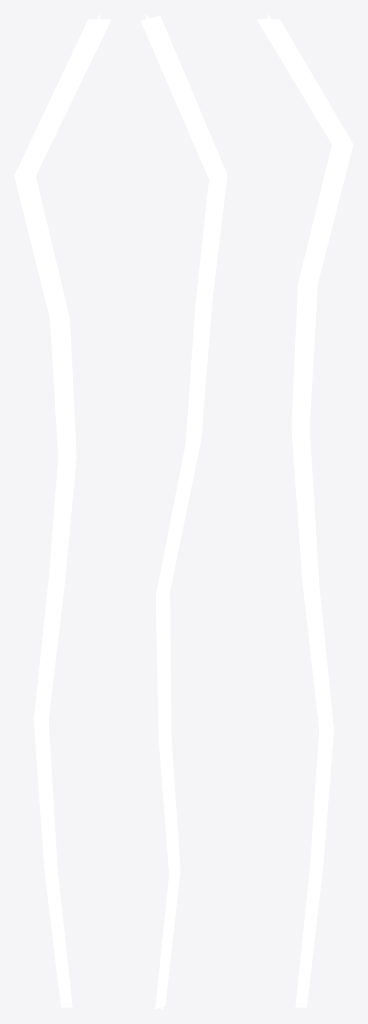
File: stormbolt.glb
The picture shows the model from 3 angles, left to right: view 1: azimuth 90°, elevation 25°; view 2: azimuth 210°, elevation 25°; view 3: azimuth 270°, elevation 25°; orthographic projection.
Visible parts, largest first — view 1: stormbolt; view 2: stormbolt; view 3: stormbolt.
Part boxes in pixels (x1,y1,x2,y2): stormbolt: (14,14,111,1007); stormbolt: (141,14,227,1009); stormbolt: (256,14,353,1007).
Size of the model in its own units: 10.11 by 150 by 13.39.
Materials: 1 (1 with a texture image).
